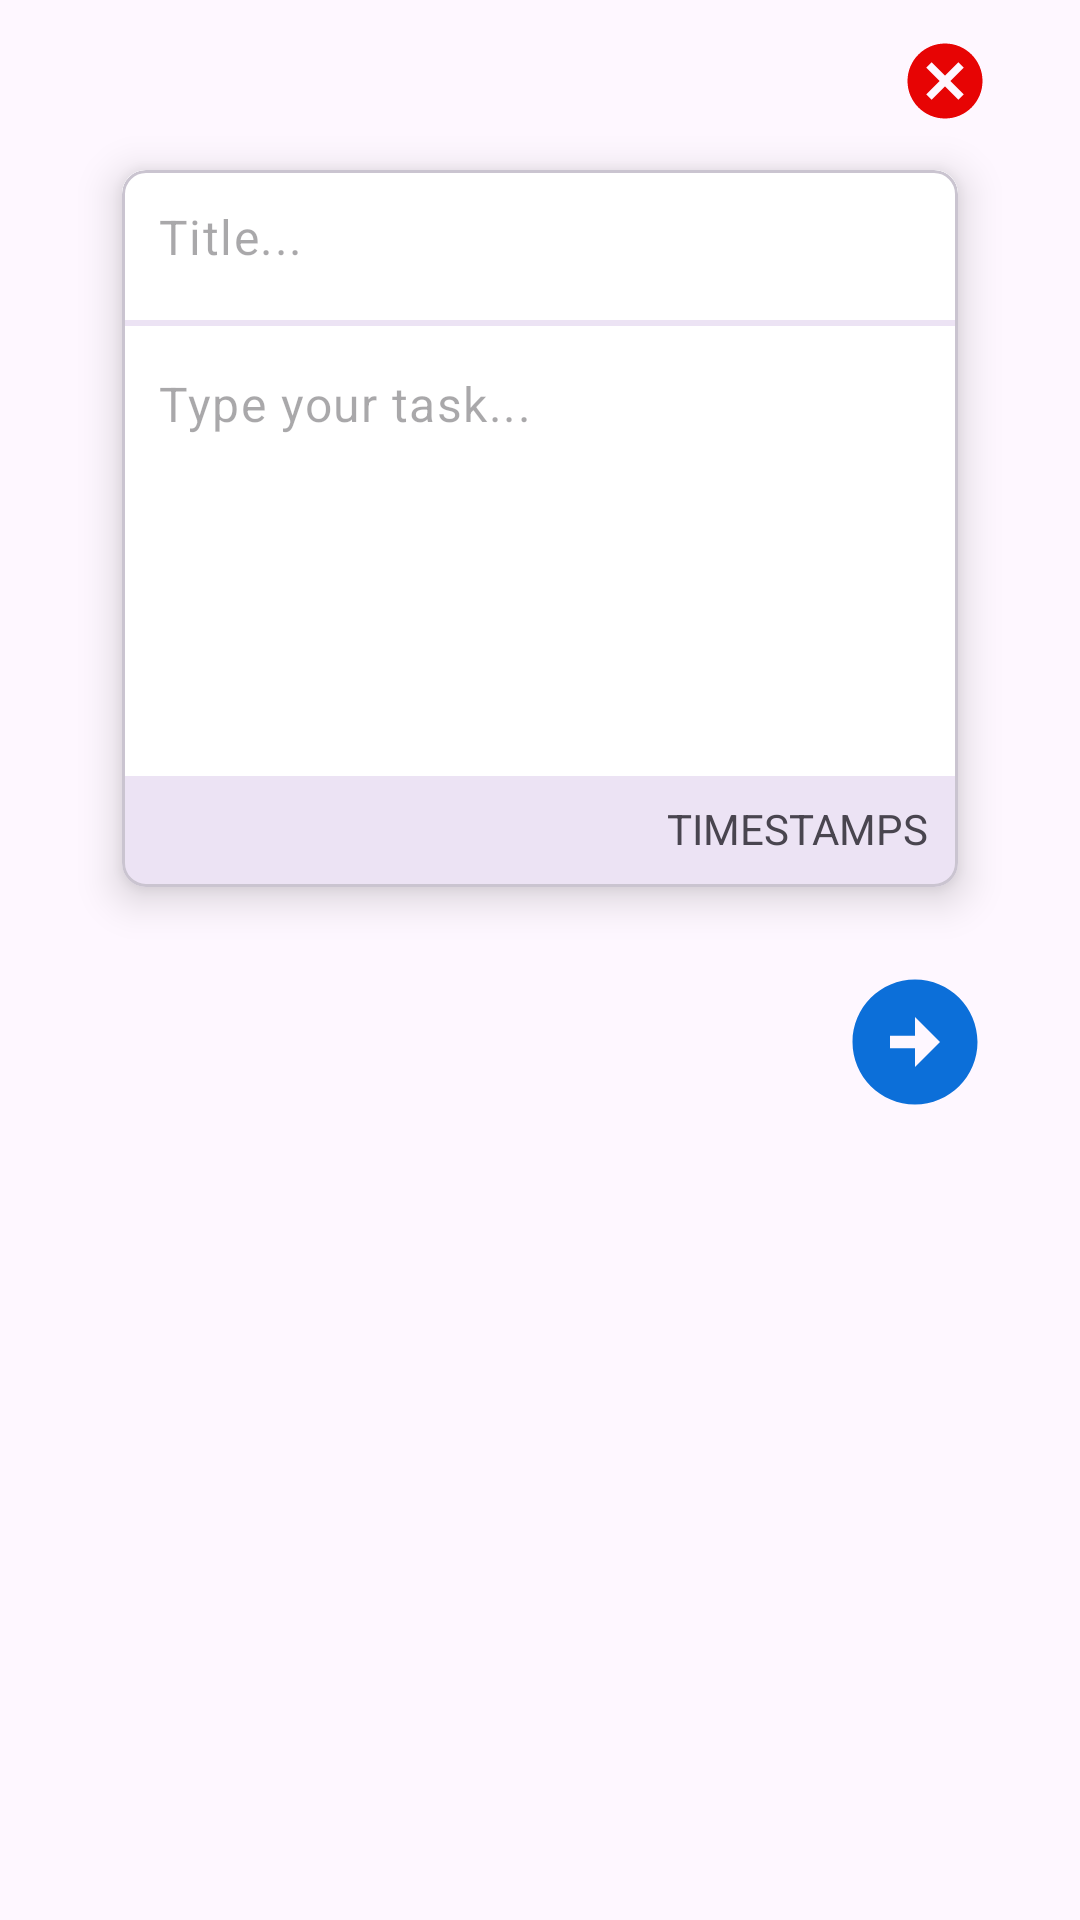

Icon click points for this 1080 x 1920 phone screenshot, format (x,y):
arrow circle right: (915,1042)
cancel: (945,81)
